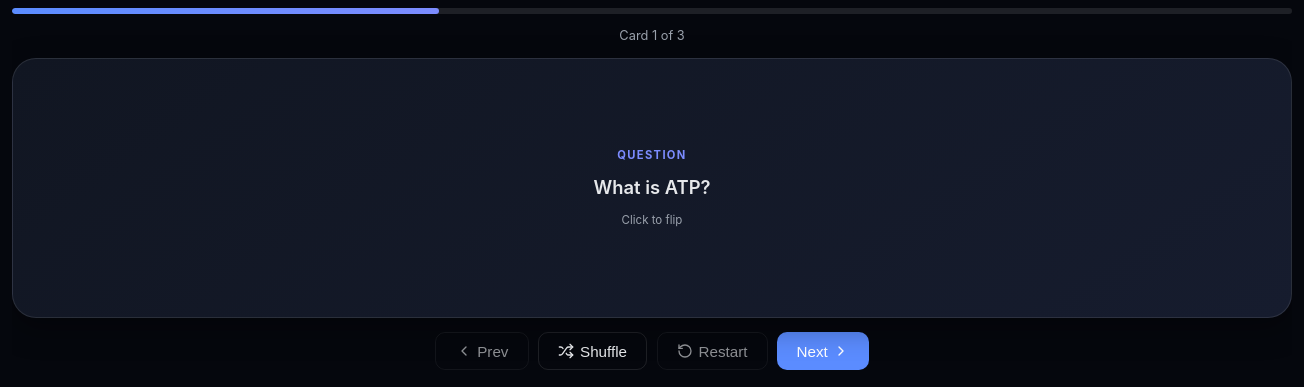
FlashcardDeck › restarts at the first card
The image size is (1304, 387).
Click the button "Next" at (823, 351), box [777, 332, 868, 370]
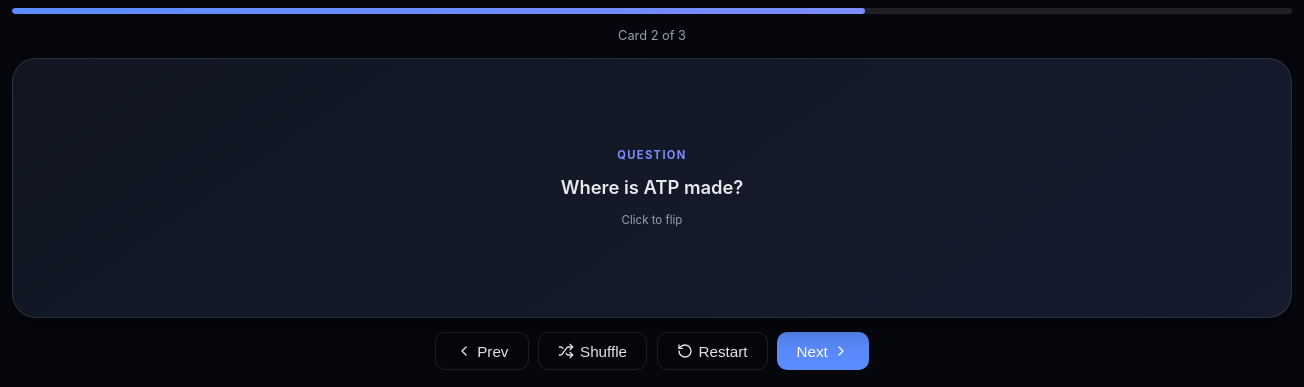
Click the button "Restart" at (712, 351), box [657, 332, 768, 370]
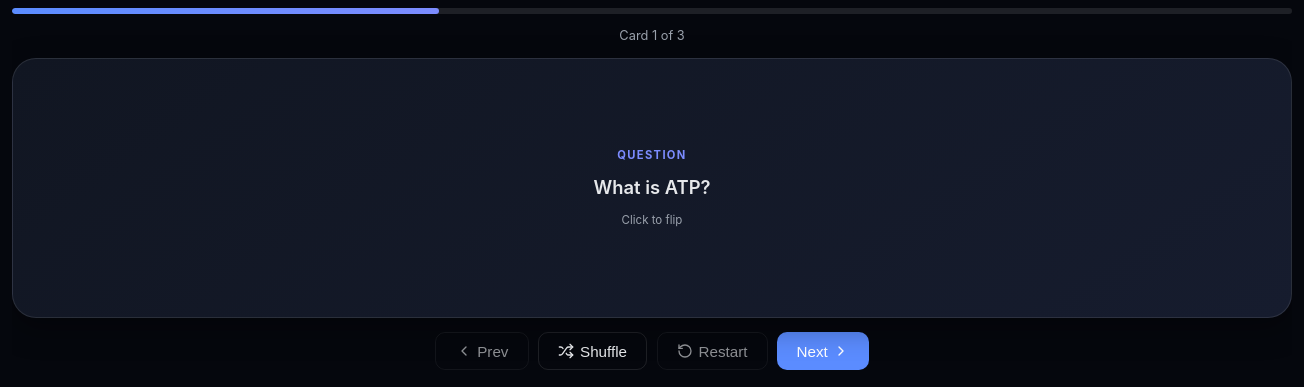
Check: the text "Card 1 of 3" is shown, box [619, 28, 685, 43]
